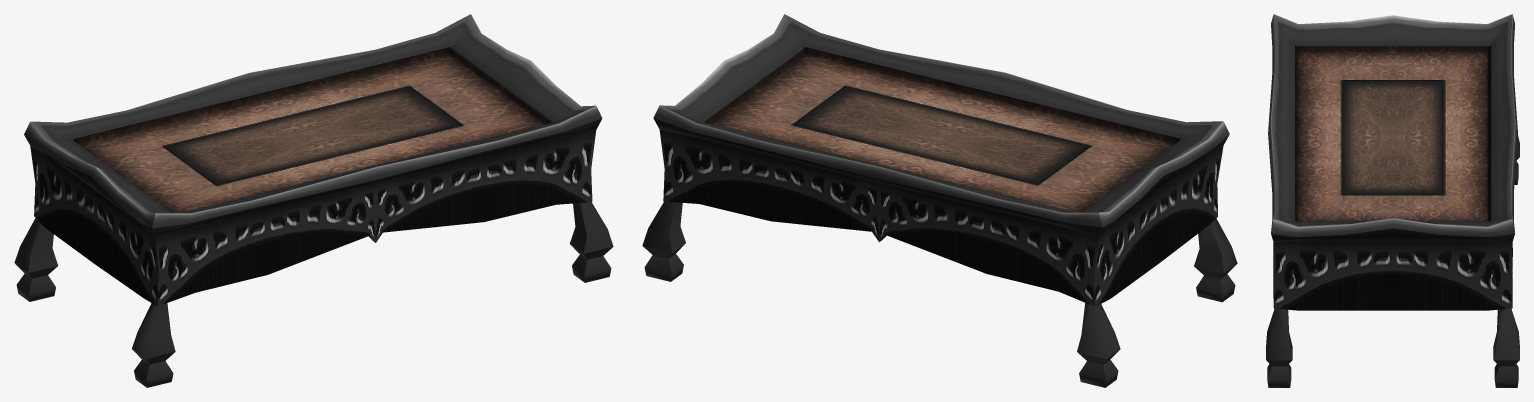
The model's file is AntiqueDiningTable_HD.fbx.
The picture shows the model from 3 angles, left to right: view 1: azimuth 30°, elevation 25°; view 2: azimuth 150°, elevation 25°; view 3: azimuth 270°, elevation 25°; orthographic projection. The views are drawn at different scales.
Parts seen in each view (by area): view 1: AntiqueDiningTable; view 2: AntiqueDiningTable; view 3: AntiqueDiningTable.
Boxes of the visible parts, x1,y1,x2,y2 form: AntiqueDiningTable: (14,14,613,387); AntiqueDiningTable: (642,14,1237,387); AntiqueDiningTable: (1266,14,1519,387).
Bounding box in the file's own units: 1.97 × 0.6955 × 0.9766.
